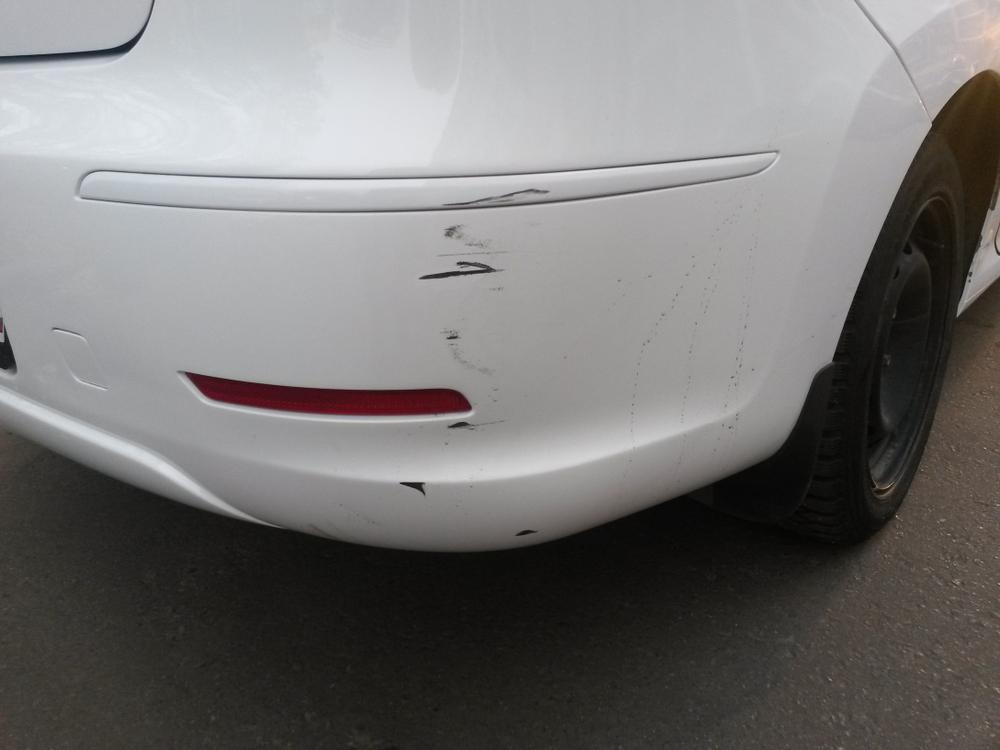scratch: (393, 189, 556, 497)
